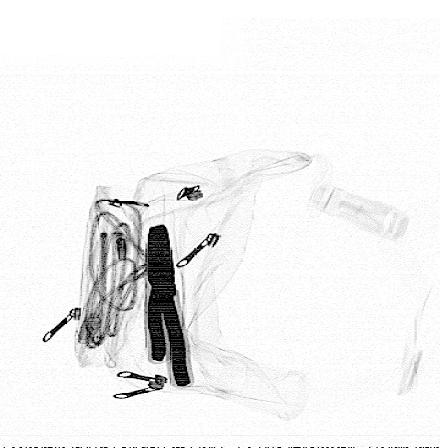Pliers: (144, 223, 194, 391)
